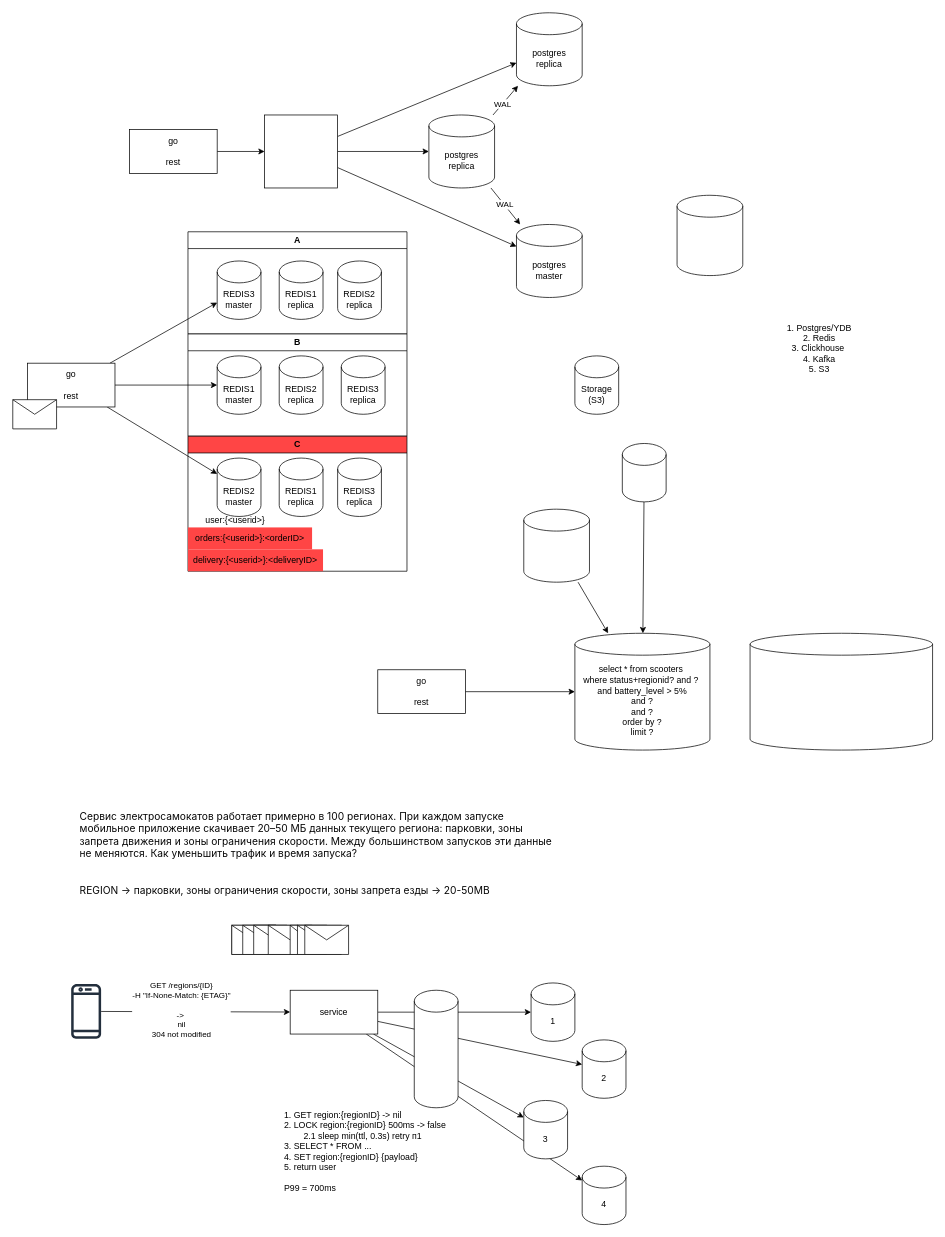
Some shapes in this 945 by 1237 pixel diagram are drawn without their labels. Here are the shapes that lost their labels. From the top down, the box of each, then its label:
(264, 114, 338, 188): PG_BOUNCER
(676, 195, 743, 276): OLAP (clickhouse)
(622, 443, 666, 502): Stream (kafka)
(523, 508, 589, 582): postgres
(749, 633, 933, 750): REDIS LSET {regionID}:{status} [a, b, c, d] MGET a, b, c, d
(71, 983, 101, 1040): < 3d
(414, 990, 458, 1108): REDIS ttl=10m
